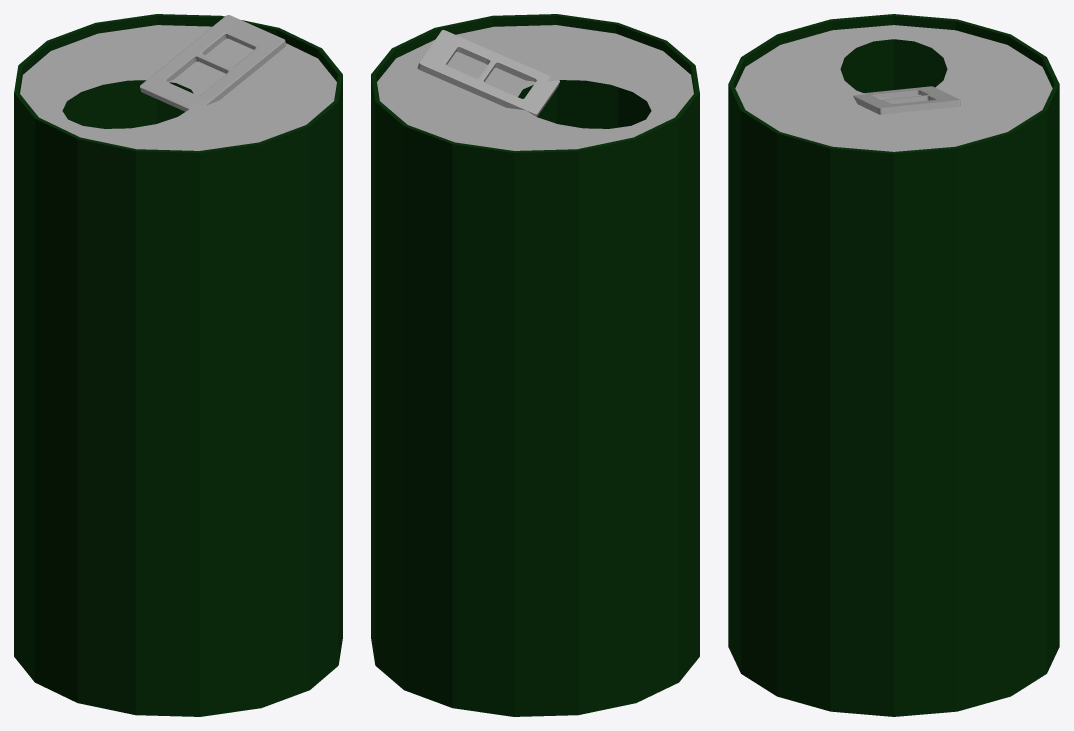
Rendered from can.fbx.
3 renders of one model, left to right at view 1: azimuth 30°, elevation 25°; view 2: azimuth 150°, elevation 25°; view 3: azimuth 270°, elevation 25°, orthographic.
Parts seen in each view (by area): view 1: Cylinder.001, Cube; view 2: Cylinder.001, Cube; view 3: Cylinder.001, Cube.
Boxes of the visible parts, x1=… form: Cylinder.001: x1=14, y1=14, x2=342, y2=716; Cube: x1=140, y1=15, x2=286, y2=111; Cylinder.001: x1=371, y1=14, x2=699, y2=716; Cube: x1=417, y1=30, x2=559, y2=116; Cylinder.001: x1=728, y1=14, x2=1059, y2=716; Cube: x1=853, y1=86, x2=960, y2=114.
Size of the model in its own units: 200 by 391 by 200.
